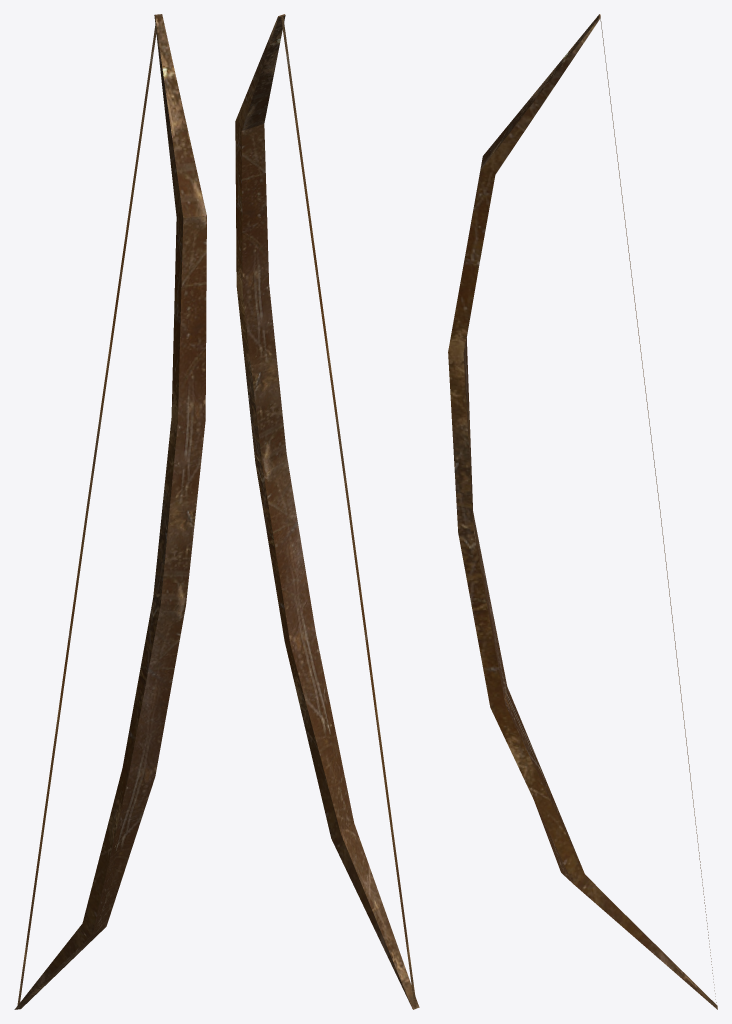
The model's file is Bow.fbx.
3 renders of one model, left to right at view 1: azimuth 30°, elevation 25°; view 2: azimuth 210°, elevation 25°; view 3: azimuth 270°, elevation 25°, orthographic. The views are drawn at different scales.
Visible parts, largest first — view 1: Bow, Rope; view 2: Bow, Rope; view 3: Bow, Rope.
Boxes of the visible parts, x1=… form: Bow: x1=14, y1=14, x2=206, y2=1009; Rope: x1=17, y1=25, x2=156, y2=1005; Bow: x1=235, y1=14, x2=419, y2=1009; Rope: x1=281, y1=16, x2=416, y2=1007; Bow: x1=448, y1=14, x2=717, y2=1009; Rope: x1=600, y1=16, x2=716, y2=1005.
Bounding box in the file's own units: 10.49 × 110 × 26.02.
